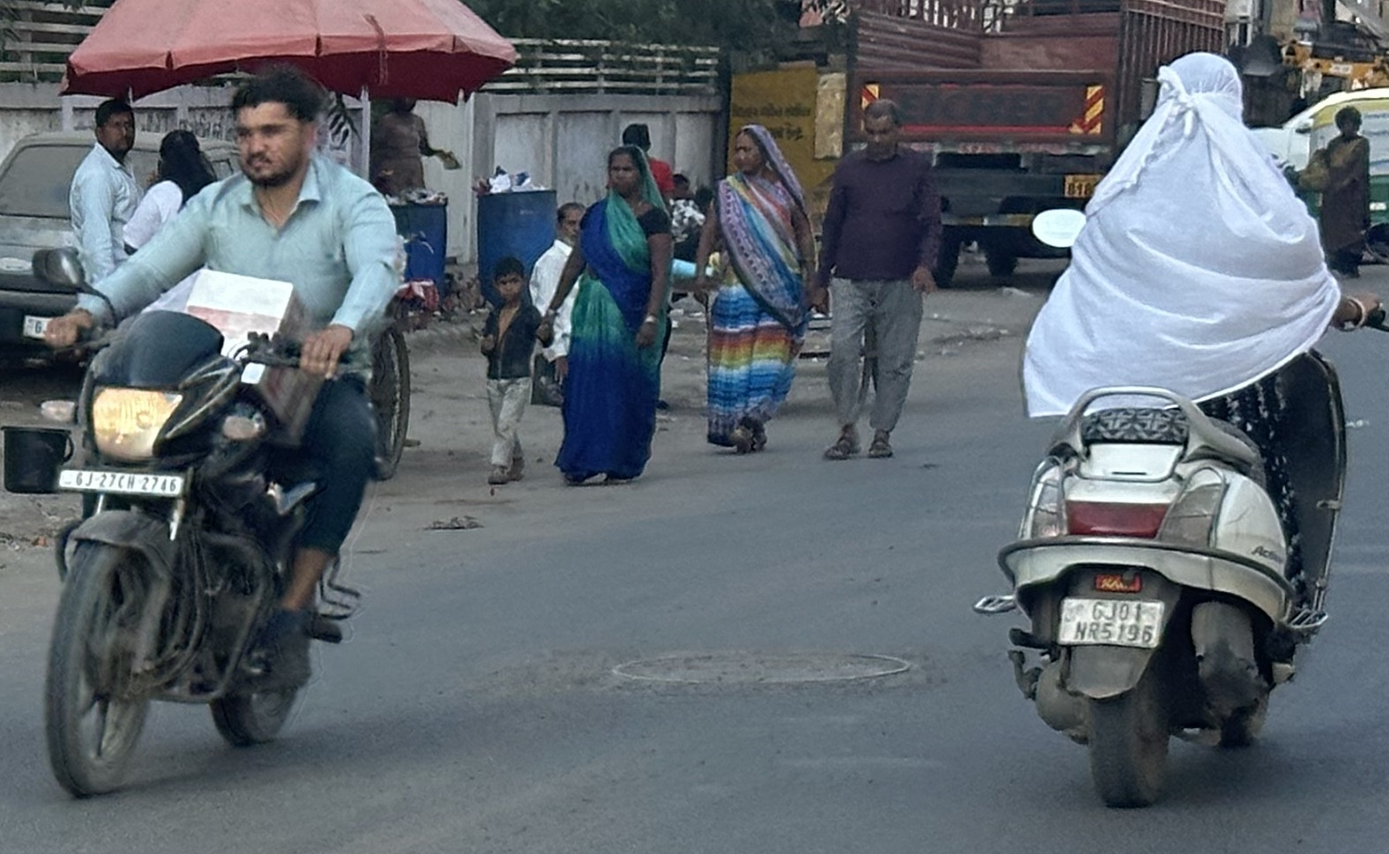BikeWithRider: (964, 43, 1386, 821), (2, 58, 417, 810)
NoHelmet: (217, 62, 337, 194), (1146, 43, 1257, 145)
